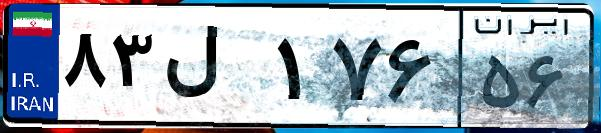1: (270, 28, 330, 110)
3: (110, 28, 158, 98)
5: (475, 38, 525, 113)
6: (385, 28, 445, 110), (525, 38, 570, 115)
7: (330, 28, 385, 110)
8: (57, 26, 110, 100)
ل: (158, 20, 270, 120)
